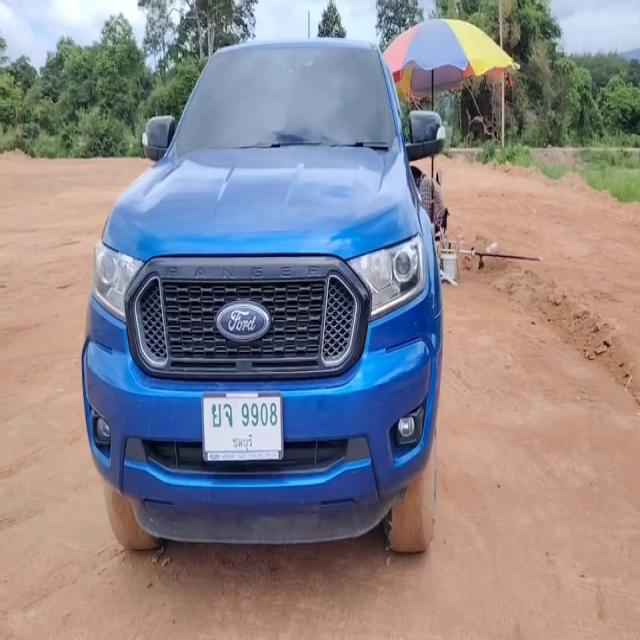Digit: (238, 399, 276, 431)
Licenseplate: (201, 391, 286, 464)
Provincename: (232, 433, 256, 452)
Thaichar: (211, 400, 233, 430)
